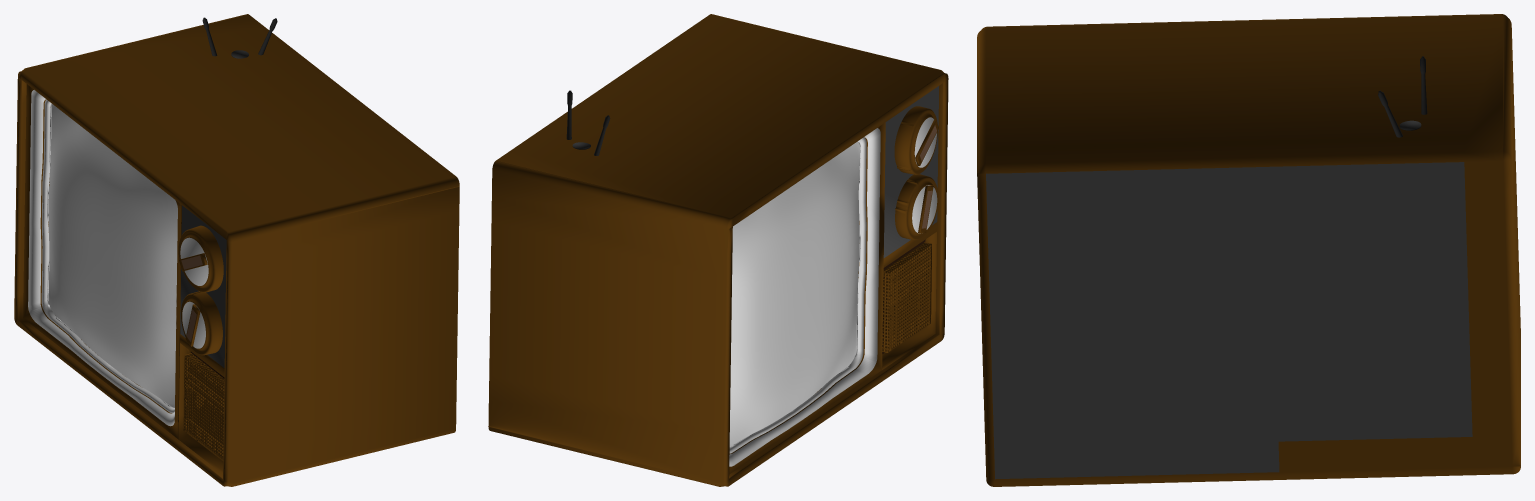
The model's file is TelevisionSimpler.fbx.
3 renders of one model, left to right at view 1: azimuth 30°, elevation 25°; view 2: azimuth 150°, elevation 25°; view 3: azimuth 270°, elevation 25°, orthographic. The views are drawn at different scales.
Visible parts, largest first — view 1: Box, Screen; view 2: Box, Screen; view 3: Box, Antennas.
Boxes of the visible parts, bbox=[...] form: Box: bbox=[14, 14, 459, 486]; Screen: bbox=[48, 104, 177, 407]; Box: bbox=[488, 14, 948, 486]; Screen: bbox=[729, 141, 859, 446]; Box: bbox=[977, 14, 1520, 486]; Antennas: bbox=[1378, 56, 1427, 137].
Size of the model in its own units: 198 by 243 by 312.
